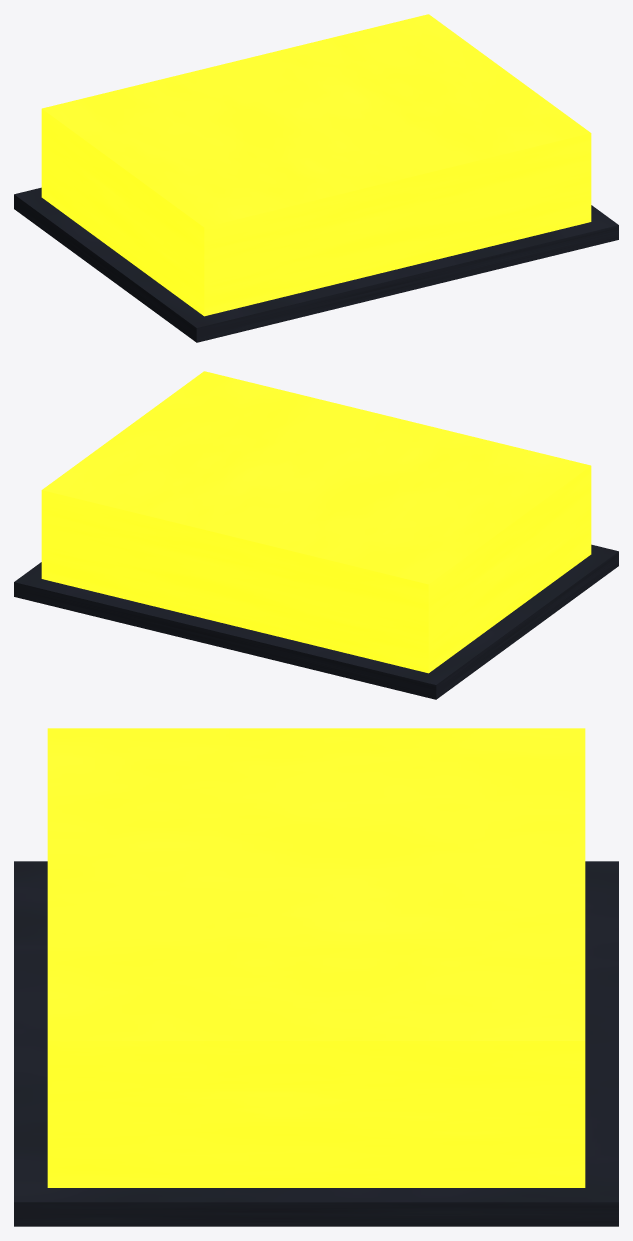
File: glow_floor_panel.glb
3 renders of one model, top to bottom at view 1: azimuth 30°, elevation 25°; view 2: azimuth 150°, elevation 25°; view 3: azimuth 270°, elevation 25°, orthographic. The views are drawn at different scales.
Visible parts, largest first — view 1: glow_floor_panel; view 2: glow_floor_panel; view 3: glow_floor_panel.
Boxes of the visible parts, left/top/right/bottom form: glow_floor_panel: left=14, top=14, right=618, bottom=342; glow_floor_panel: left=14, top=371, right=618, bottom=699; glow_floor_panel: left=14, top=728, right=618, bottom=1226.
Size of the model in its own units: 6.62 by 1.55 by 4.96.
1 material, 1 textured.
